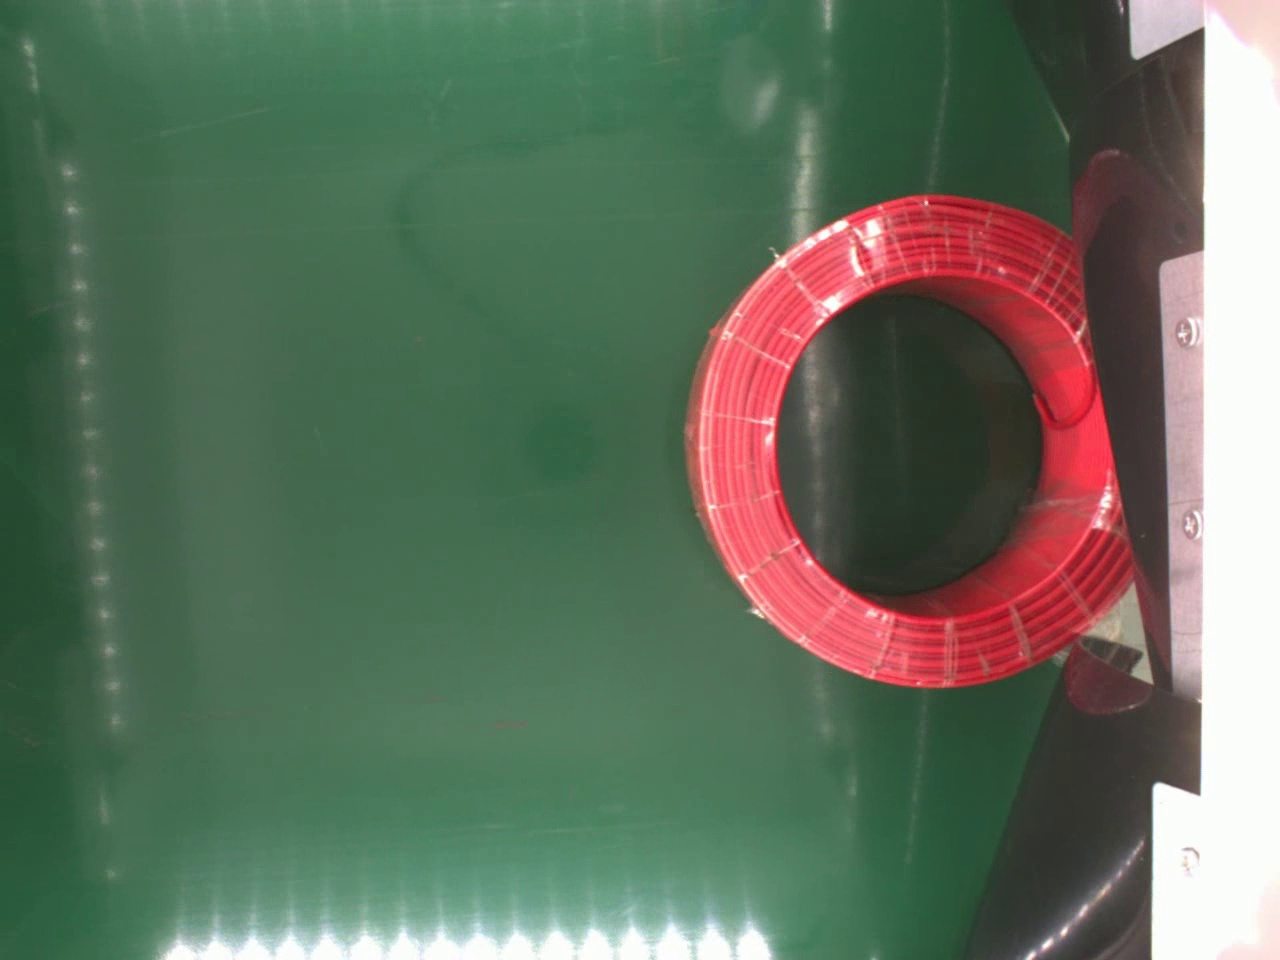red: (683, 195, 1136, 691)
